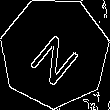N_NE: (24, 20, 86, 85)
